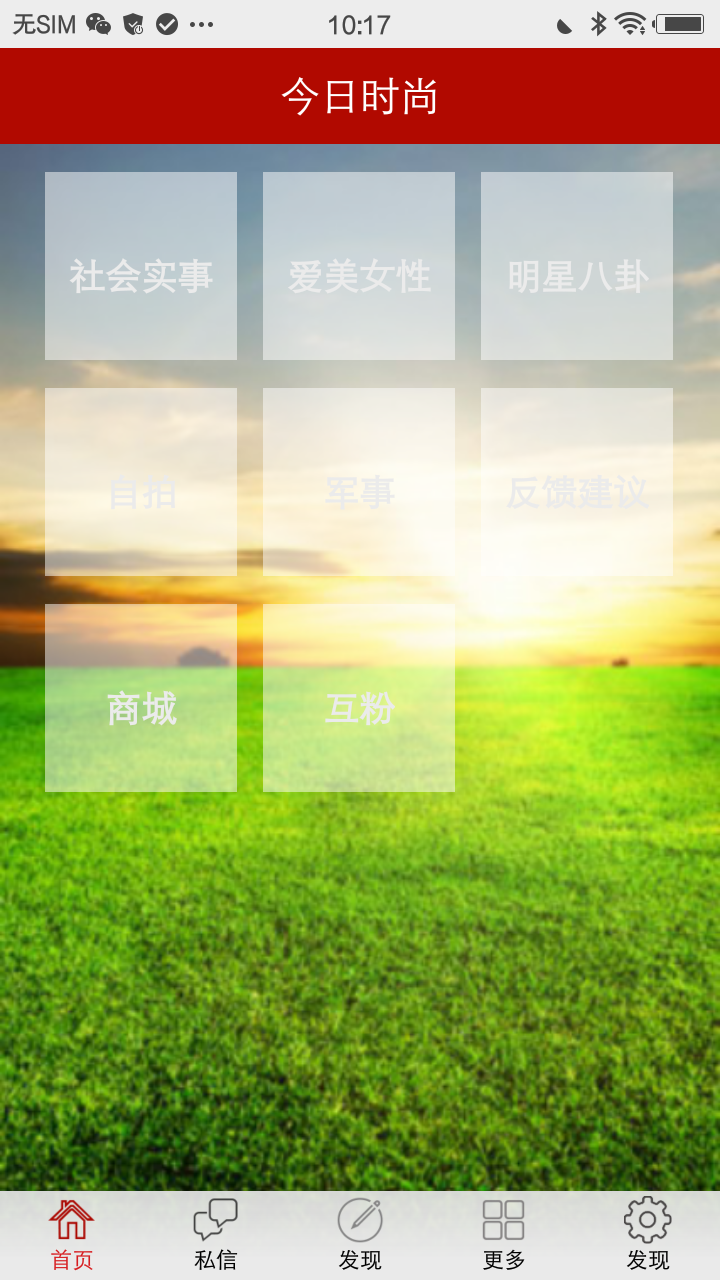textview: (24, 60, 714, 149)
